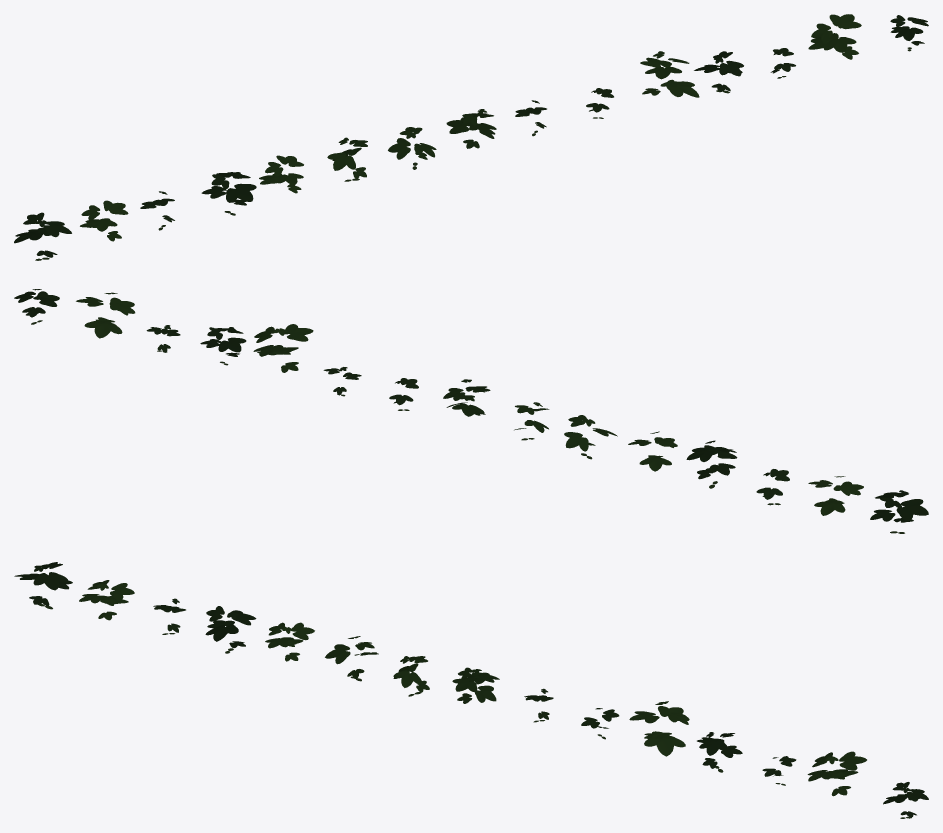
Rendered from ROW_11_SEG4_foliage.dae.
3 views of the same model, one above another, from view 1: azimuth 30°, elevation 25°; view 2: azimuth 150°, elevation 25°; view 3: azimuth 330°, elevation 25° (orthographic).
Visible parts, largest first — view 1: ROW_11_SEG4_foliage; view 2: ROW_11_SEG4_foliage; view 3: ROW_11_SEG4_foliage.
Boxes of the visible parts, x1,y1,x2,y2 form: ROW_11_SEG4_foliage: (14,14,928,260); ROW_11_SEG4_foliage: (14,289,928,533); ROW_11_SEG4_foliage: (14,562,928,818).
Bounding box in the file's own units: 4.53 × 0.3053 × 0.2605.
